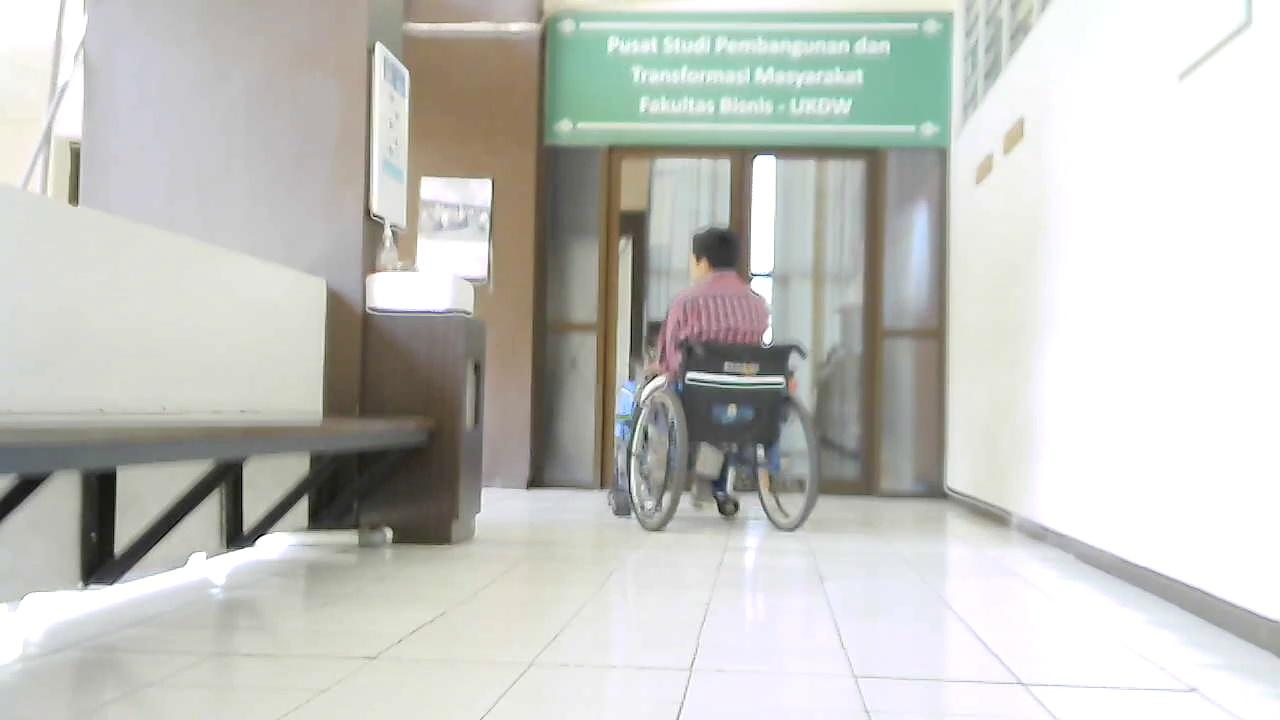person: (652, 225, 772, 520)
wheelchair: (606, 330, 840, 551)
